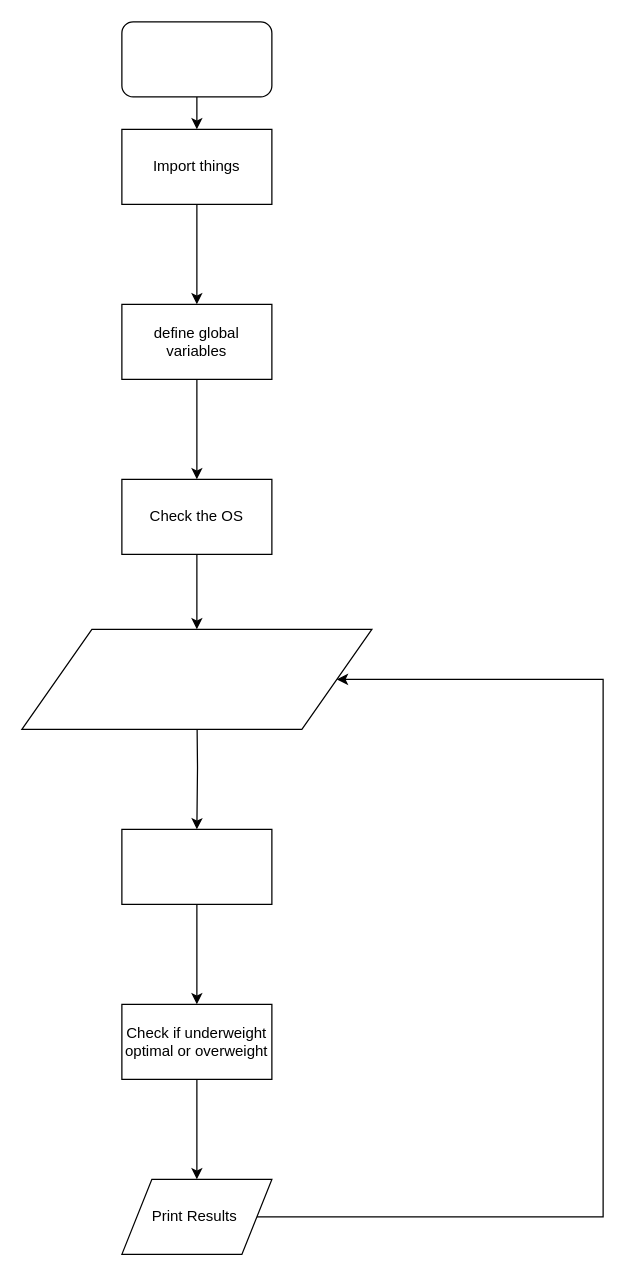
Some shapes in this 635 by 1276 pixel diagram are drawn without their labels. The shapes that lost their labels are listed below. From the top down, each one's box as (x1, y1, x2, y2) in pixels, then its label:
(121, 21, 272, 97): start
(21, 628, 372, 729): Get the users height and weight
(121, 828, 272, 904): Calculate the users BMI
